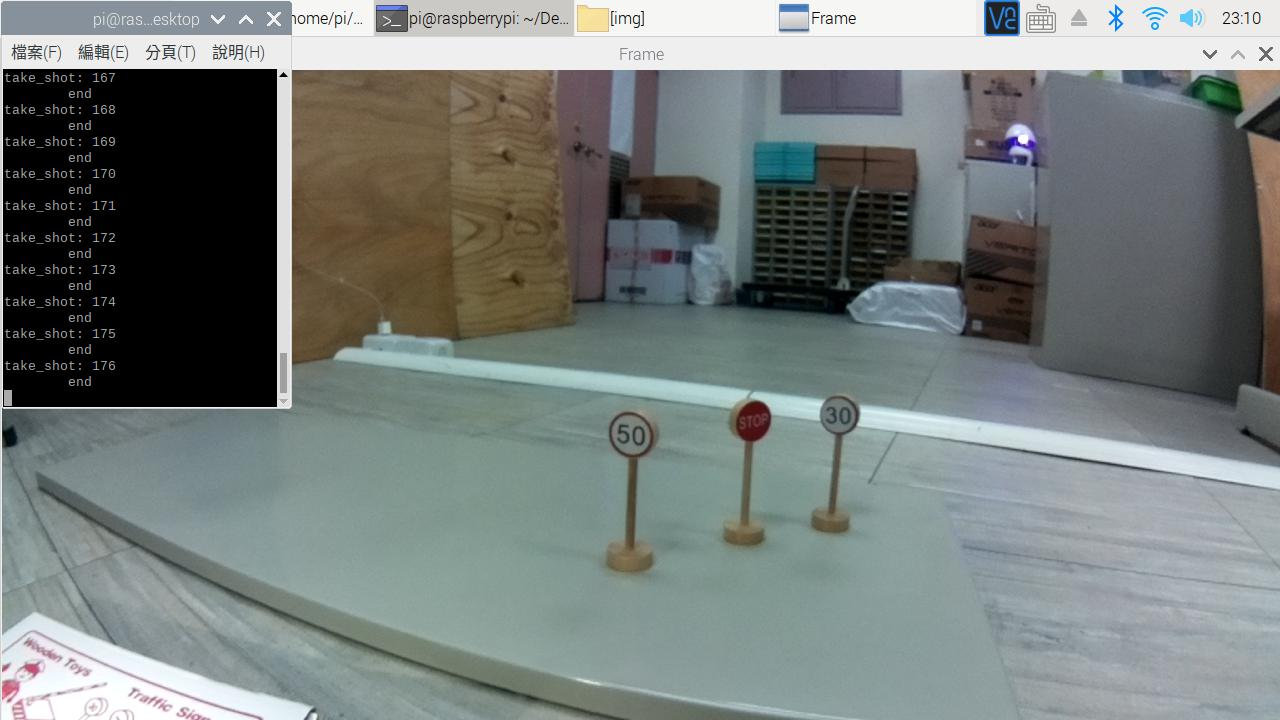Speed30: (809, 388, 865, 445)
Speed50: (596, 405, 679, 470)
Stop: (727, 394, 779, 455)
